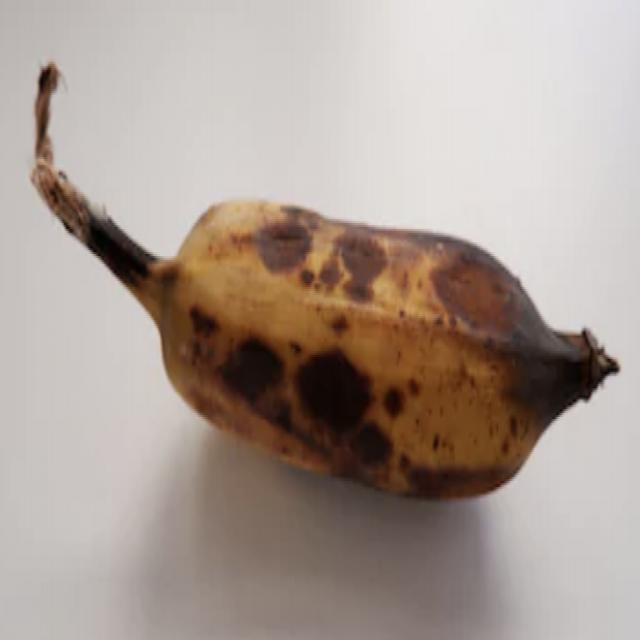rotten-banana: (101, 197, 612, 490)
